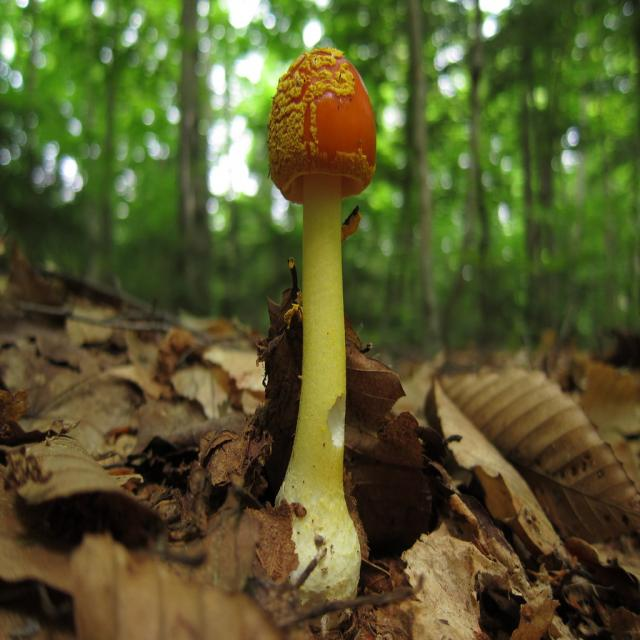mushroom: (265, 47, 374, 608)
